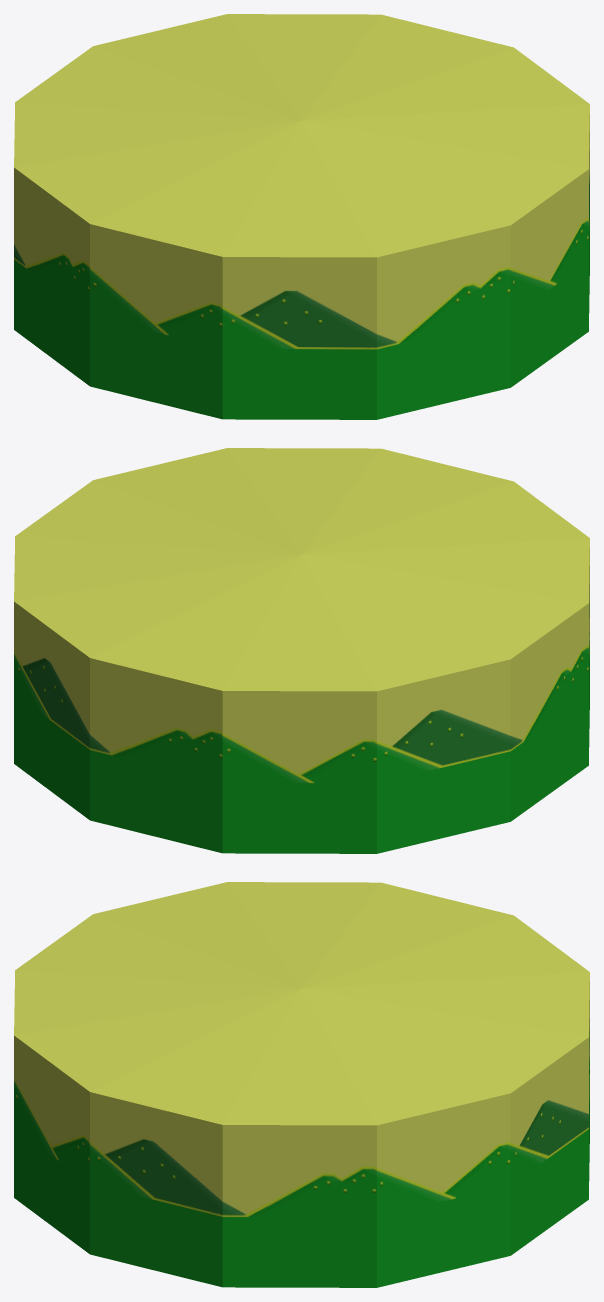
Rendered from Skybox_Track_1.obj.
3 renders of one model, top to bottom at view 1: azimuth 30°, elevation 25°; view 2: azimuth 150°, elevation 25°; view 3: azimuth 270°, elevation 25°, orthographic.
Parts seen in each view (by area): view 1: Track_1_Skybox; view 2: Track_1_Skybox; view 3: Track_1_Skybox.
Part boxes in pixels (left/top/right/bottom): Track_1_Skybox: left=14, top=14, right=589, bottom=419; Track_1_Skybox: left=14, top=448, right=589, bottom=853; Track_1_Skybox: left=14, top=882, right=589, bottom=1287.
Bounding box in the file's own units: 892 × 303 × 892.
